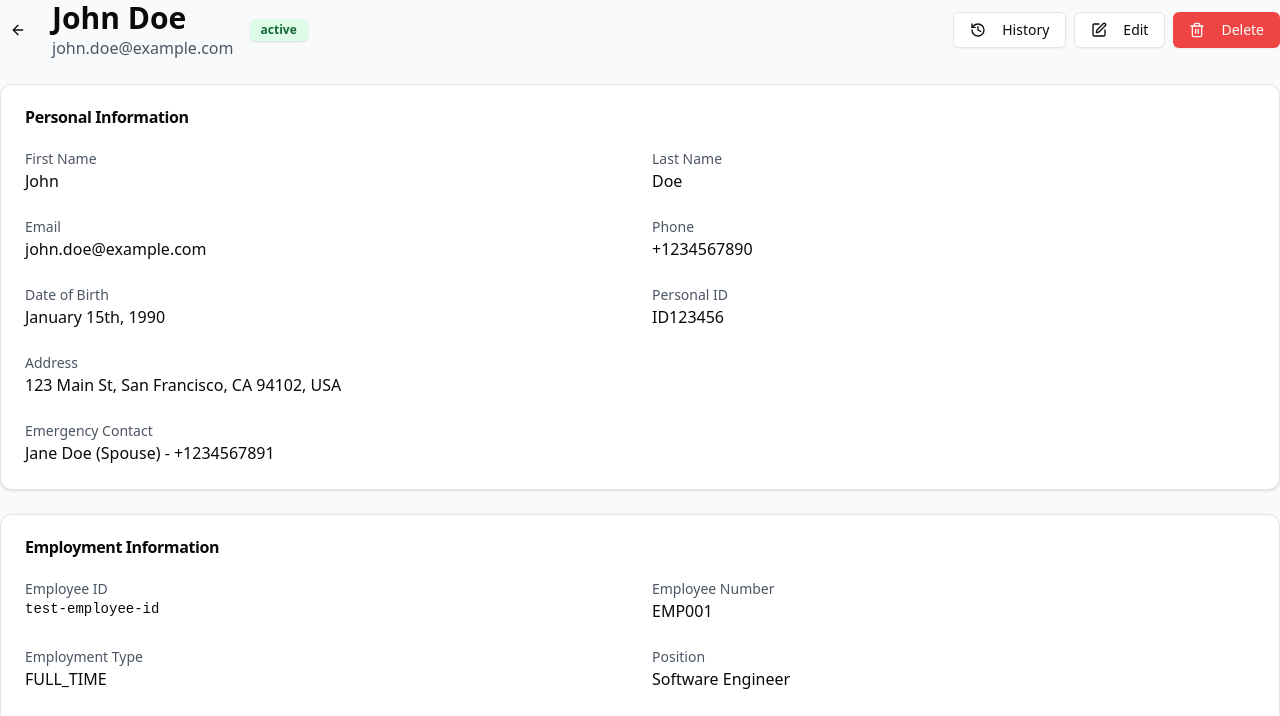
EmployeeDetail › History View › shows message when no history is available
The image size is (1280, 716).
Click the button "History" at (1010,30), box x1=953 y1=12 x2=1066 y2=48
(page scrolled)
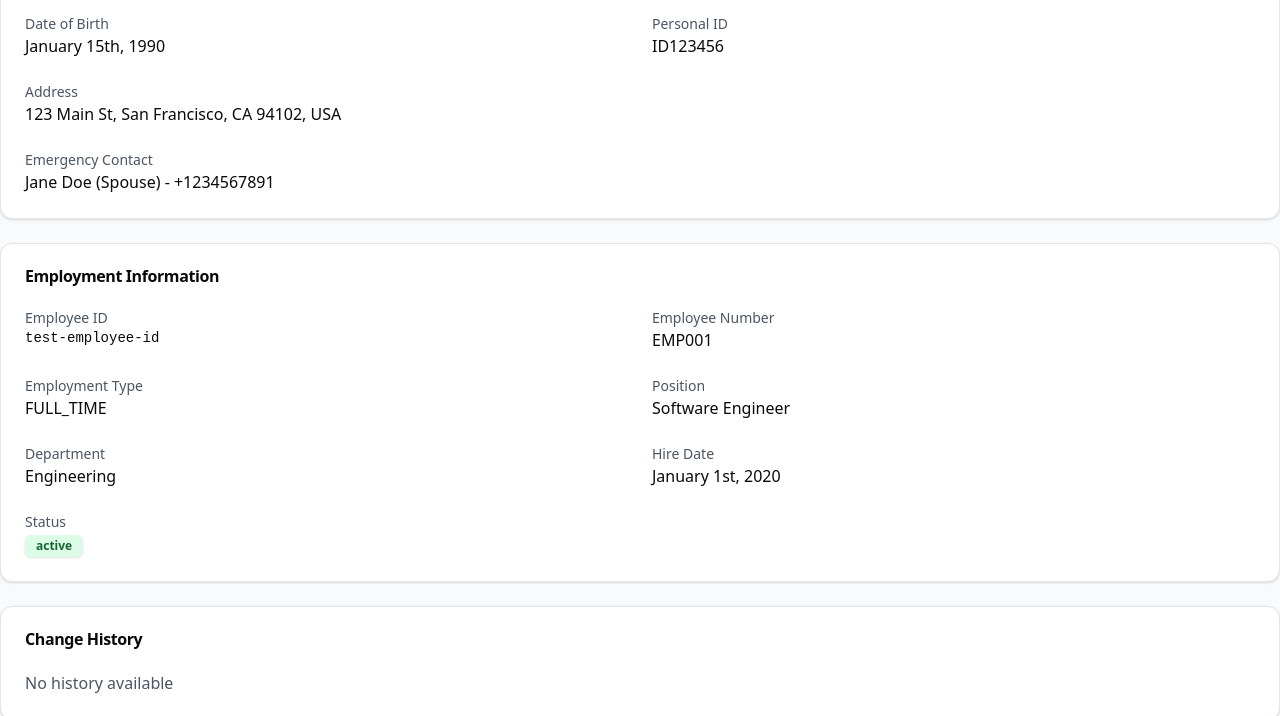
Result: the text "No history available" is shown at x1=25 y1=672 x2=173 y2=694
